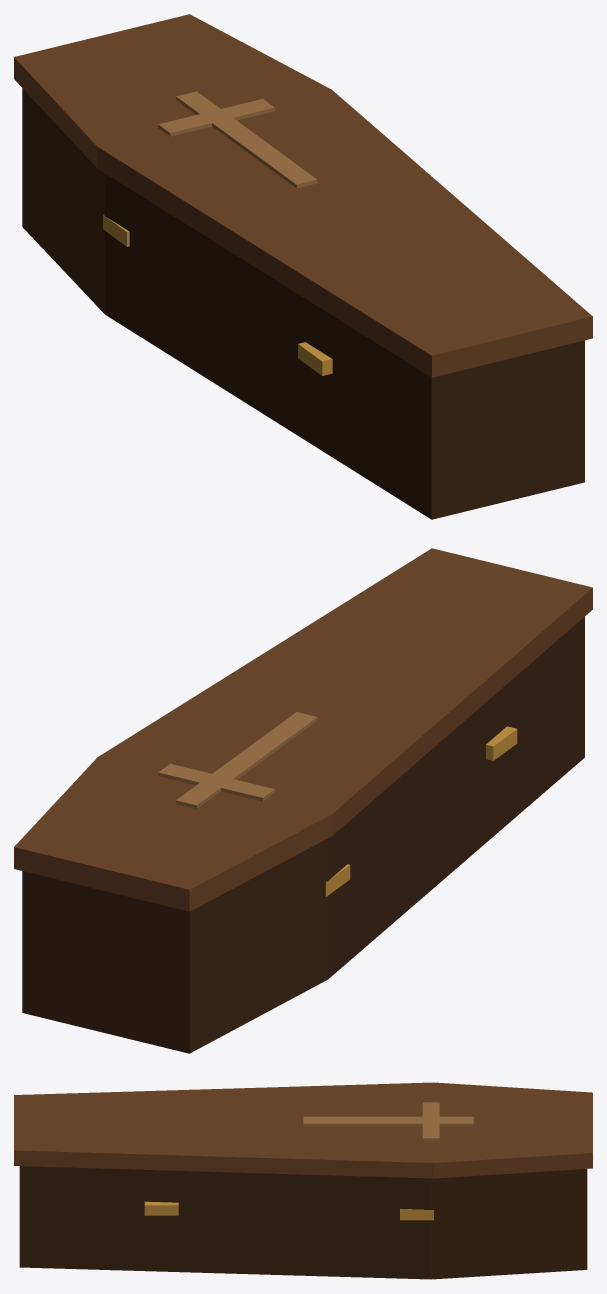
The model's file is SM_Coffin.obj.
3 views of the same model, one above another, from view 1: azimuth 30°, elevation 25°; view 2: azimuth 150°, elevation 25°; view 3: azimuth 270°, elevation 25° (orthographic). The views are drawn at different scales.
Parts seen in each view (by area): view 1: SM_Coffin; view 2: SM_Coffin; view 3: SM_Coffin.
Part boxes in pixels (bbox=[...]): SM_Coffin: bbox=[14, 14, 592, 519]; SM_Coffin: bbox=[14, 548, 592, 1053]; SM_Coffin: bbox=[14, 1082, 592, 1279].
Bounding box in the file's own units: 0.672 × 0.47 × 2.04.
